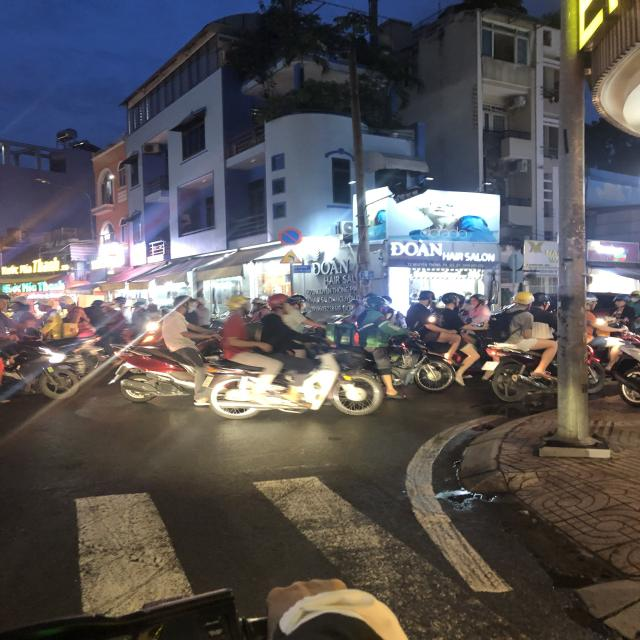Bien bao cam do xe: (276, 226, 304, 246)
Bien bao cho ngoat nguy hiem: (279, 248, 303, 264)
